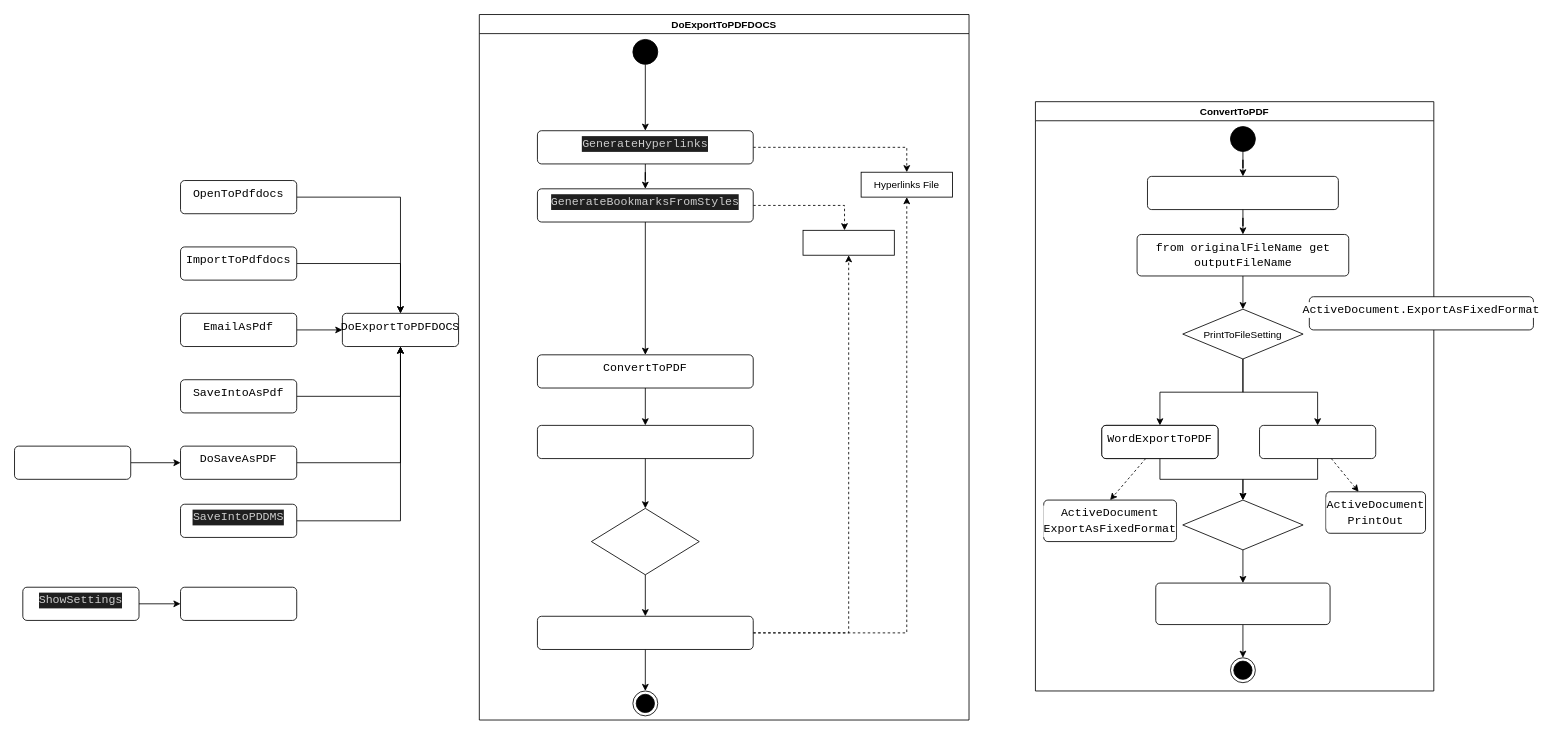
This 1555x735 diagram has some shape labels left out. Here are the shapes that lost their labels. From the top down, the centre of each, then its label:
At (1242,193): "GetPDFDocsPrintSetting".
At (848,242): "Bookmarks File".
At (72,462): "SaveAsPdf".
At (645,442): "LaunchPDFCMDEXEWithProgressBar".
At (1317,442): "GeneratePostScript".
At (645,541): "exportToPD".
At (1242,524): "bSuccess".
At (238,603): "DoSettings".
At (1242,603): "Restore back the original filename".
At (645,632): "LaunchPDFDocsWithParams".
